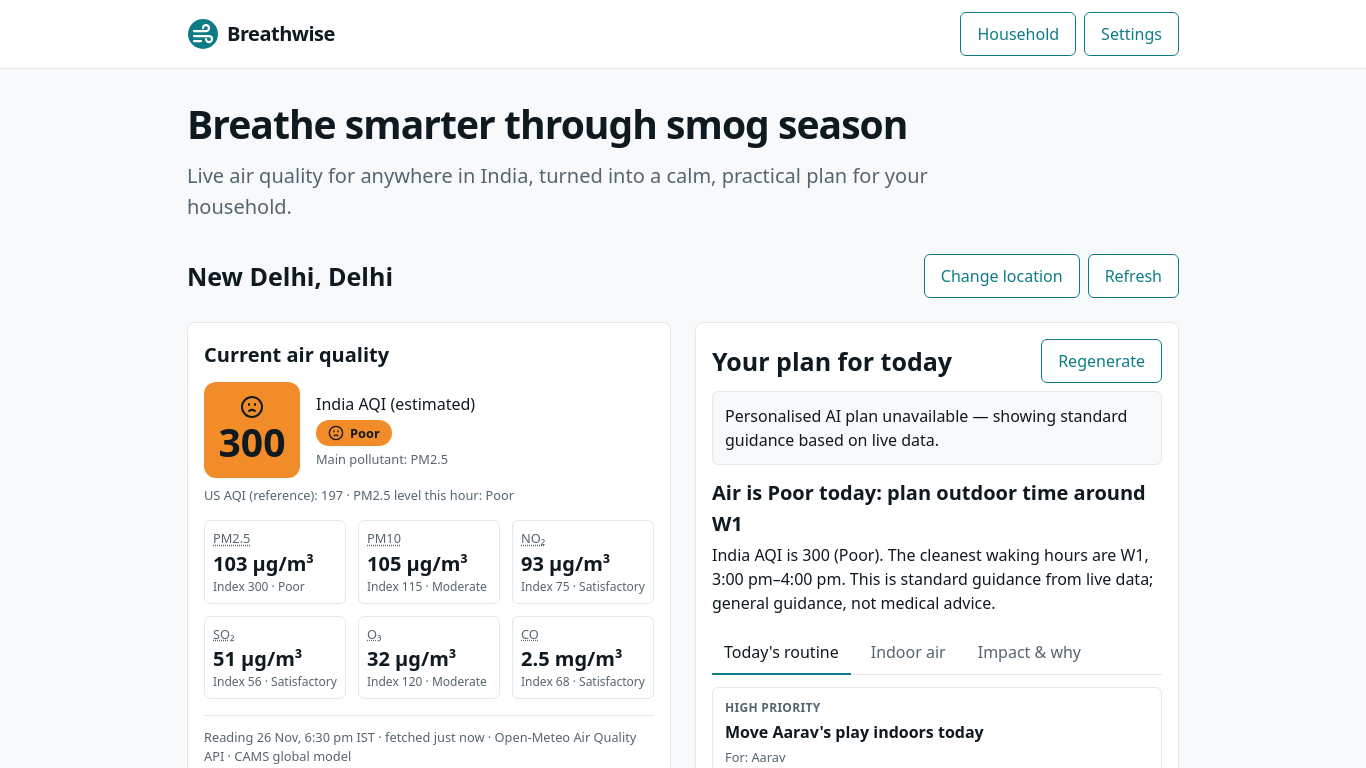
Test case: Dashboard › can change the location
Click the button "Change location" at (1002, 276), box [924,254,1080,298]
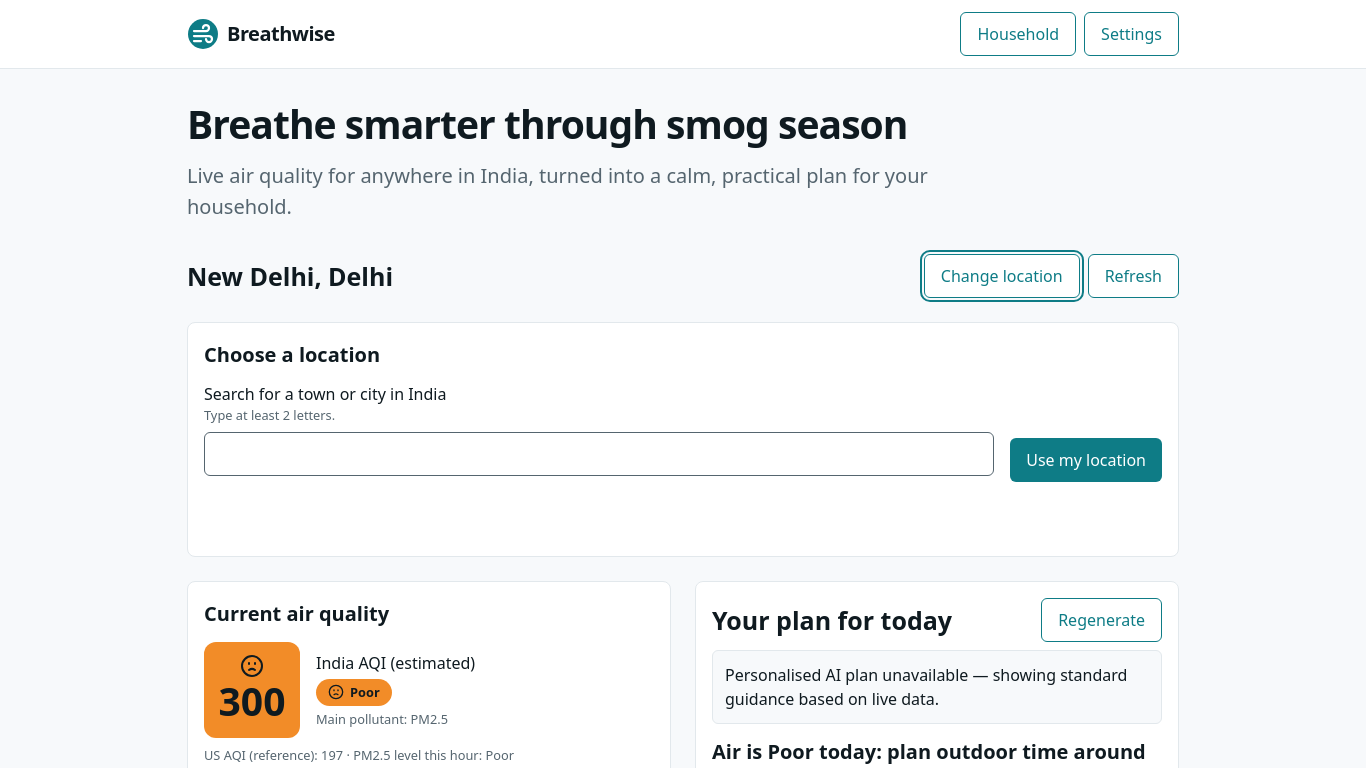
expect the heading "New Delhi, Delhi" is shown: met, box [187,259,393,294]
expect the dropdown labelled "Search for a town or city in India" is shown: met, box [204,432,994,476]
